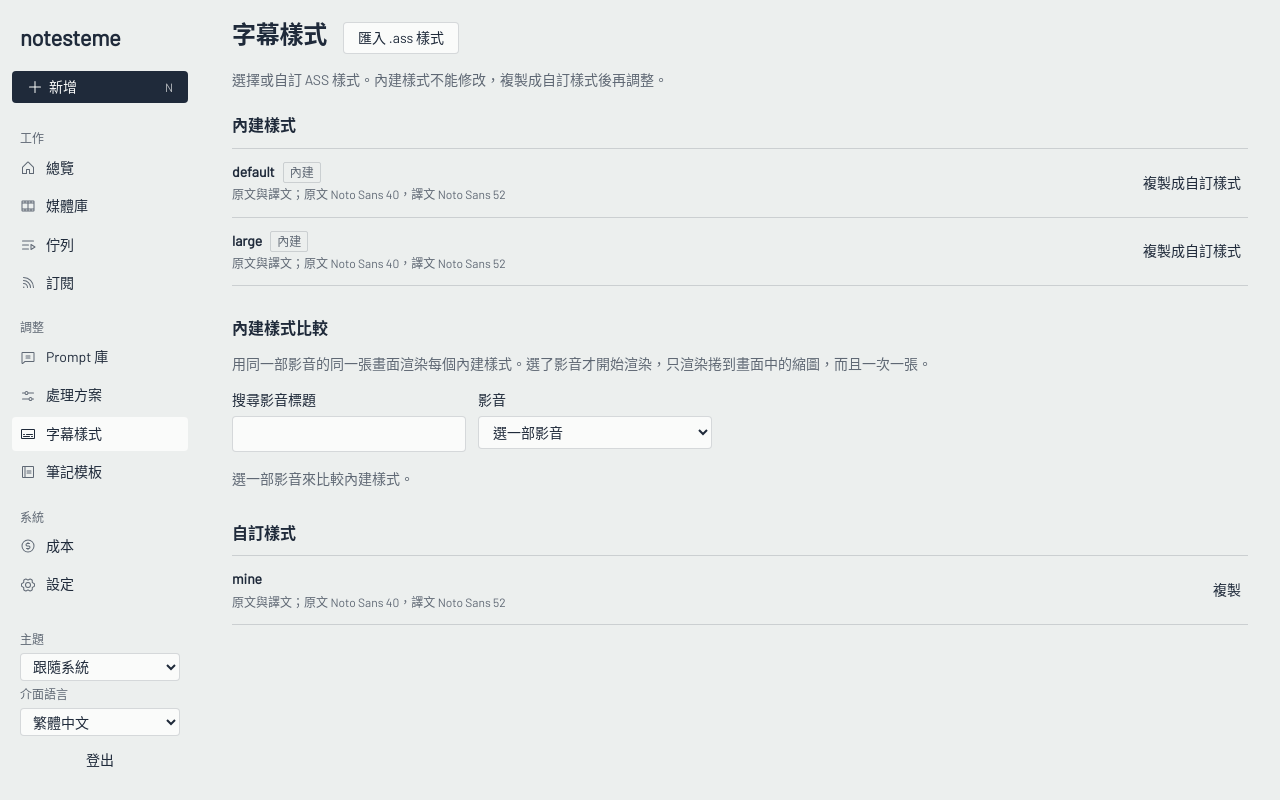
Test: 字幕樣式：內建樣式比較（pages.md §9） › 失敗的縮圖顯示原因，不擋下一張
The image size is (1280, 800).
Select "第一部" in the dropdown labelled "影音" at (595, 432), box [478,416,712,449]
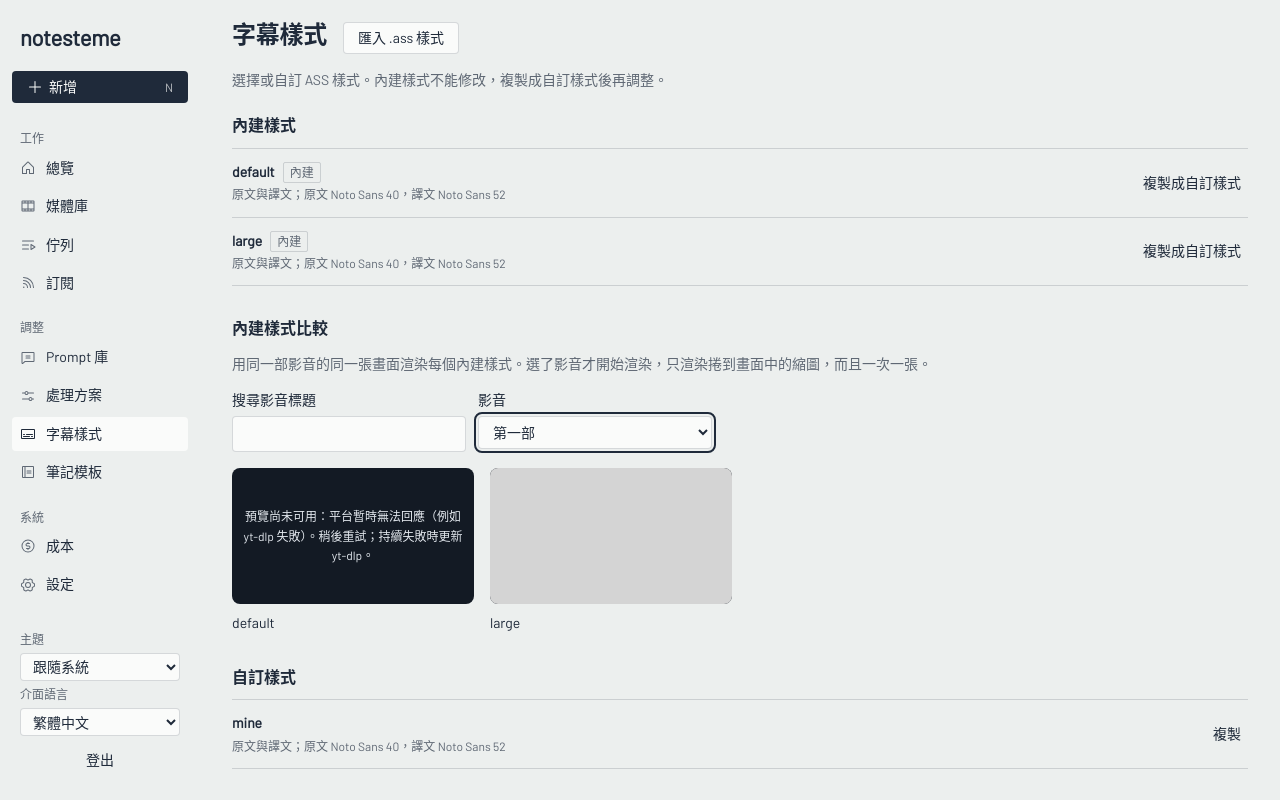
Expected: the text "預覽尚未可用：平台暫時無法回應（例如 yt-dlp 失敗）。稍後重試；持續失敗時更新 yt-dlp。" is shown, [232,499,474,573]
